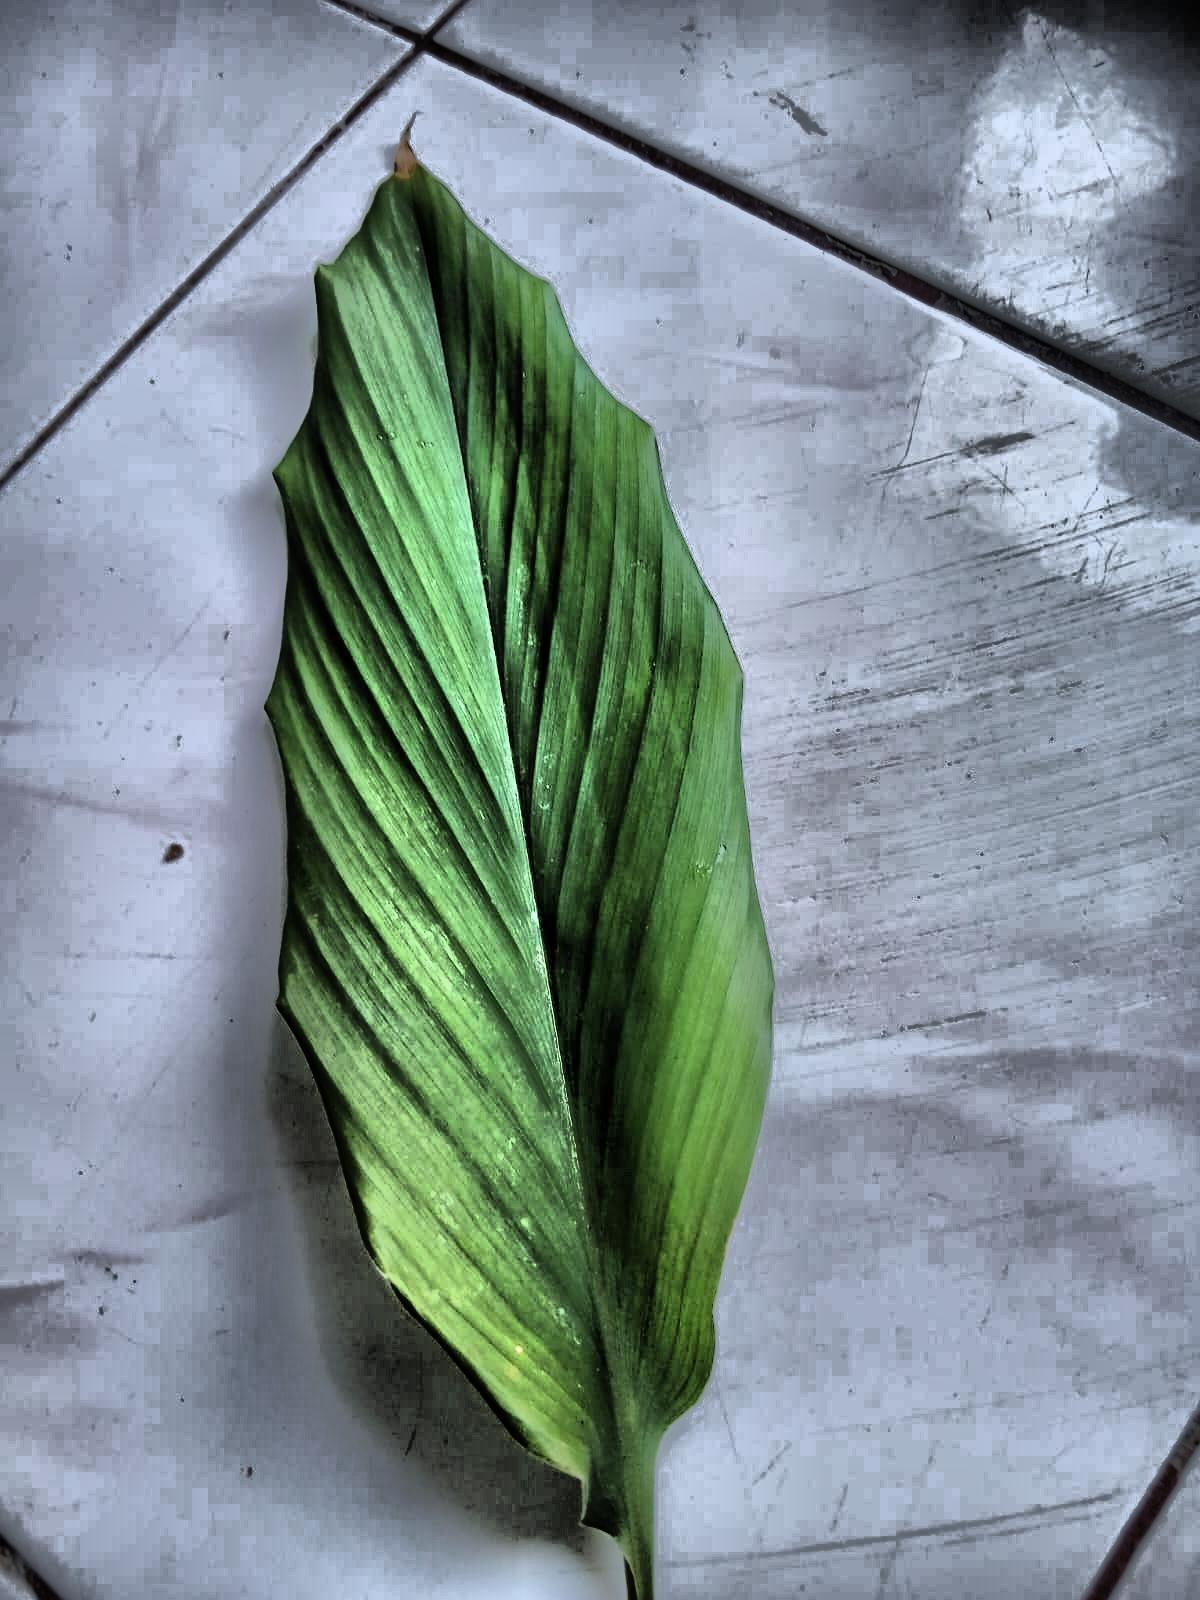daun kunyit: (265, 139, 773, 1599)
